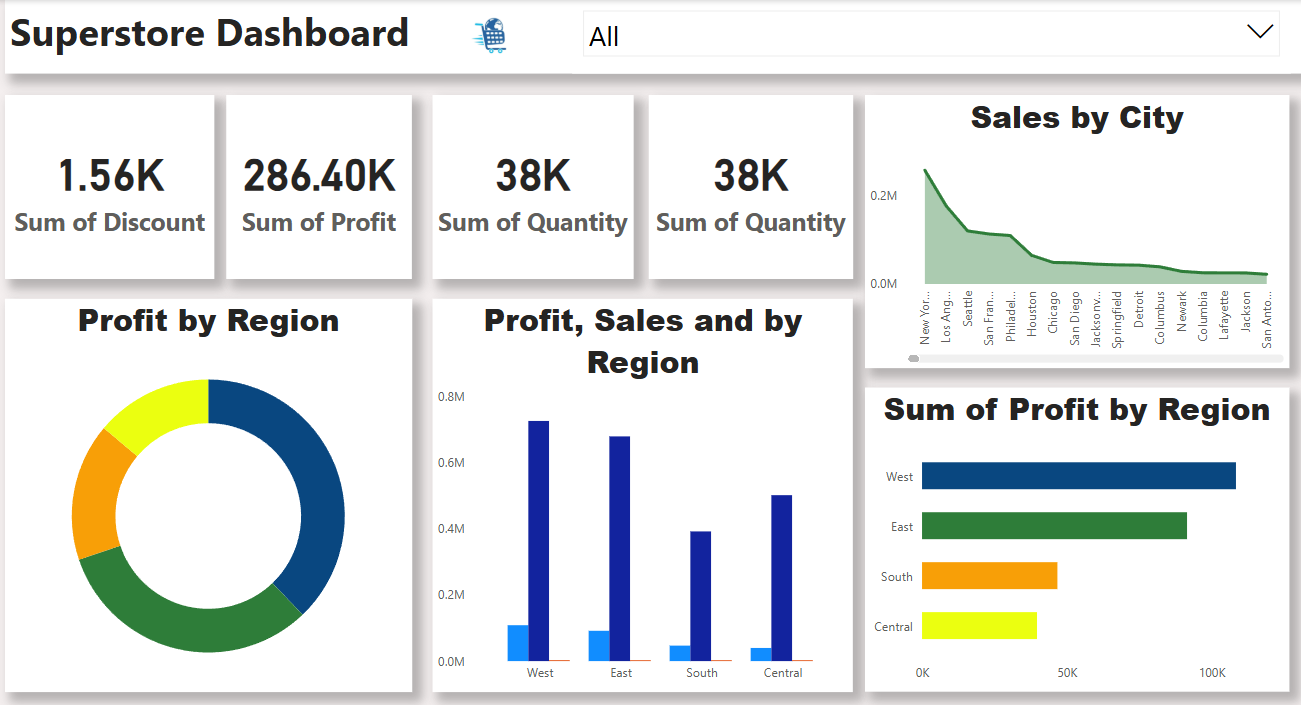

The page's visual inventory and layout, read from the dashboard file:
{"tool":"powerbi","page":{"name":"Page 1","canvas":[1280,720],"ordinal":0},"visuals":[{"type":"textbox","box":[10.1,0,1269.9,72.2],"z":0},{"type":"slicer","fields":{"Values":["Orders (2).Region"]},"box":[564.4,0,702.2,72.2],"z":1000},{"type":"image","box":[408.2,0,156.2,72.2],"z":2000},{"type":"card","fields":{"Values":["Sum(Orders (2).Discount)"]},"box":[10.1,92.4,204.9,179.7],"z":3000},{"type":"card","fields":{"Values":["Sum(Orders (2).Profit)"]},"box":[226.8,92.4,181.4,179.7],"z":4000},{"type":"card","fields":{"Values":["Sum(Orders (2).Quantity)"]},"box":[428.3,92.4,196.5,179.7],"z":5000},{"type":"card","fields":{"Values":["Sum(Orders (2).Quantity)"]},"box":[640,92.4,199.9,179.7],"z":6000},{"type":"donutChart","title":"Profit by Region","fields":{"Category":["Orders (2).Region"],"Y":["Sum(Orders (2).Profit)"]},"box":[10.1,292.3,398.1,384.7],"z":7000},{"type":"lineClusteredColumnComboChart","title":"Profit, Sales and by Region","fields":{"Category":["Orders (2).Region"],"Y":["Sum(Orders (2).Profit)","Sum(Orders (2).Sales)","CountNonNull(Orders (2).Row ID)"]},"box":[428.3,292.3,411.5,384.7],"z":8000},{"type":"areaChart","title":"Sales by City","fields":{"Y":["Sum(Orders (2).Sales)"],"Category":["Orders (2).City"]},"box":[851.7,92.4,414.9,267.1],"z":9000},{"type":"barChart","fields":{"Category":["Orders (2).Region"],"Y":["Sum(Orders (2).Profit)"]},"box":[851.7,379.6,414.9,297.3],"z":10000}]}

Visuals, with their boxes on the page's 1280x720 design canvas (x1, y1, x2, y2). These are canvas units, not pixel positions in the 1301x705 screenshot, which may show the page scaled, cropped or inside an application window:
textbox: (10, 0, 1280, 72)
slicer - Orders (2).Region: (564, 0, 1267, 72)
image: (408, 0, 564, 72)
card - Sum(Orders (2).Discount): (10, 92, 215, 272)
card - Sum(Orders (2).Profit): (227, 92, 408, 272)
card - Sum(Orders (2).Quantity): (428, 92, 625, 272)
card - Sum(Orders (2).Quantity): (640, 92, 840, 272)
"Profit by Region" donutChart: (10, 292, 408, 677)
"Profit, Sales and by Region" lineClusteredColumnComboChart: (428, 292, 840, 677)
"Sales by City" areaChart: (852, 92, 1267, 360)
barChart - Orders (2).Region x Sum(Orders (2).Profit): (852, 380, 1267, 677)
